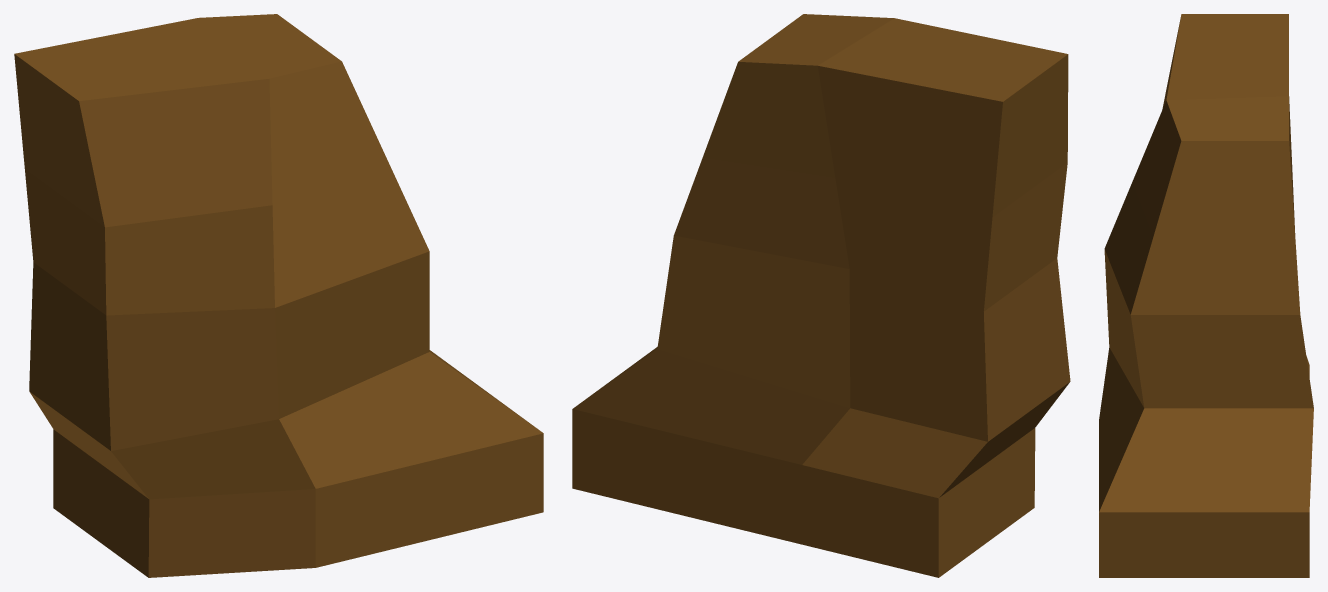
File: Rock01.fbx
3 views of the same model, side by side, from view 1: azimuth 30°, elevation 25°; view 2: azimuth 150°, elevation 25°; view 3: azimuth 270°, elevation 25° (orthographic). The views are drawn at different scales.
Visible parts, largest first — view 1: Cube.017; view 2: Cube.017; view 3: Cube.017.
Part boxes in pixels (left/top/right/bottom): Cube.017: left=14, top=14, right=543, bottom=577; Cube.017: left=572, top=14, right=1070, bottom=577; Cube.017: left=1099, top=14, right=1313, bottom=577.
Bounding box in the file's own units: 3139 × 3440 × 1694.
